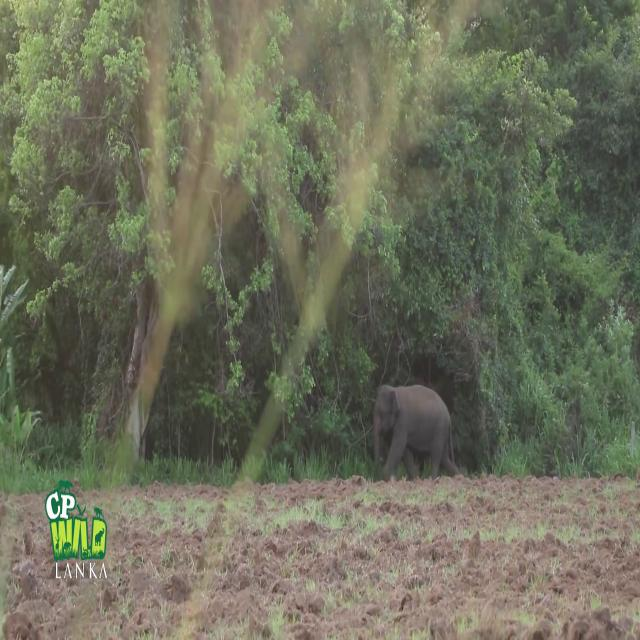Elephant: (373, 383, 463, 482)
